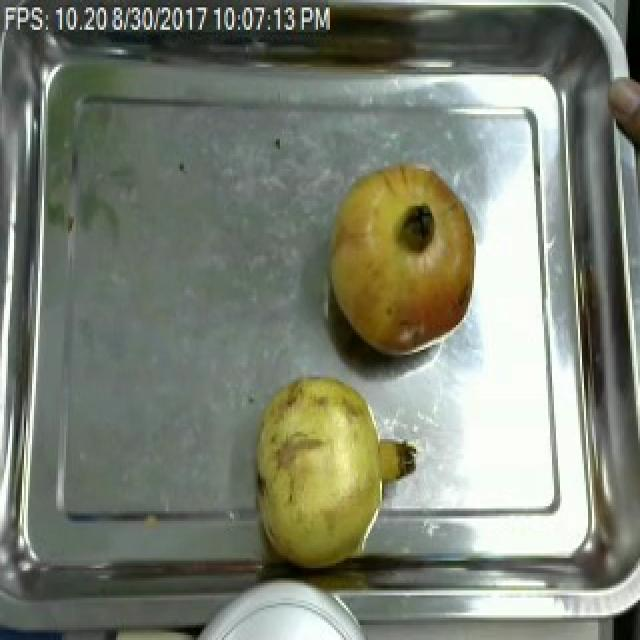fruit: (244, 362, 420, 576), (320, 156, 482, 367), (608, 65, 640, 161)
